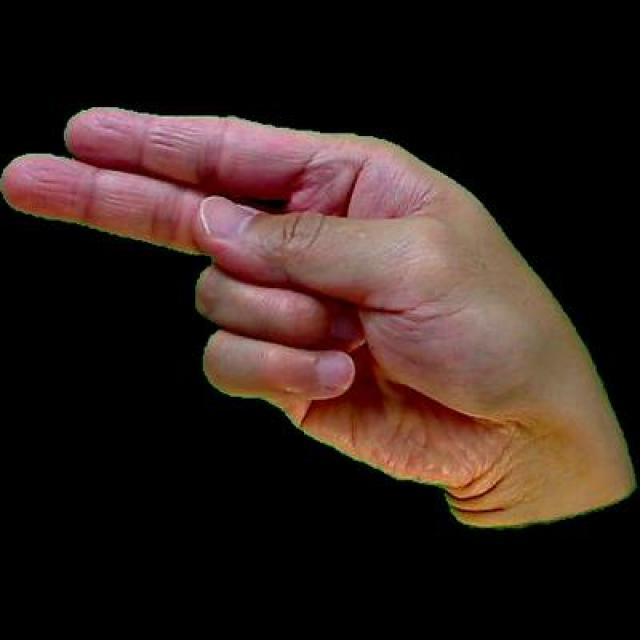h: (0, 99, 637, 536)
